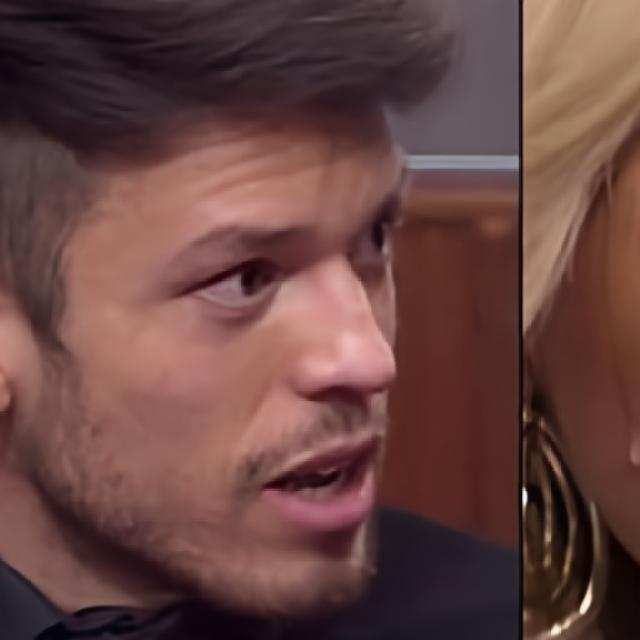surprise: (17, 76, 411, 617)
